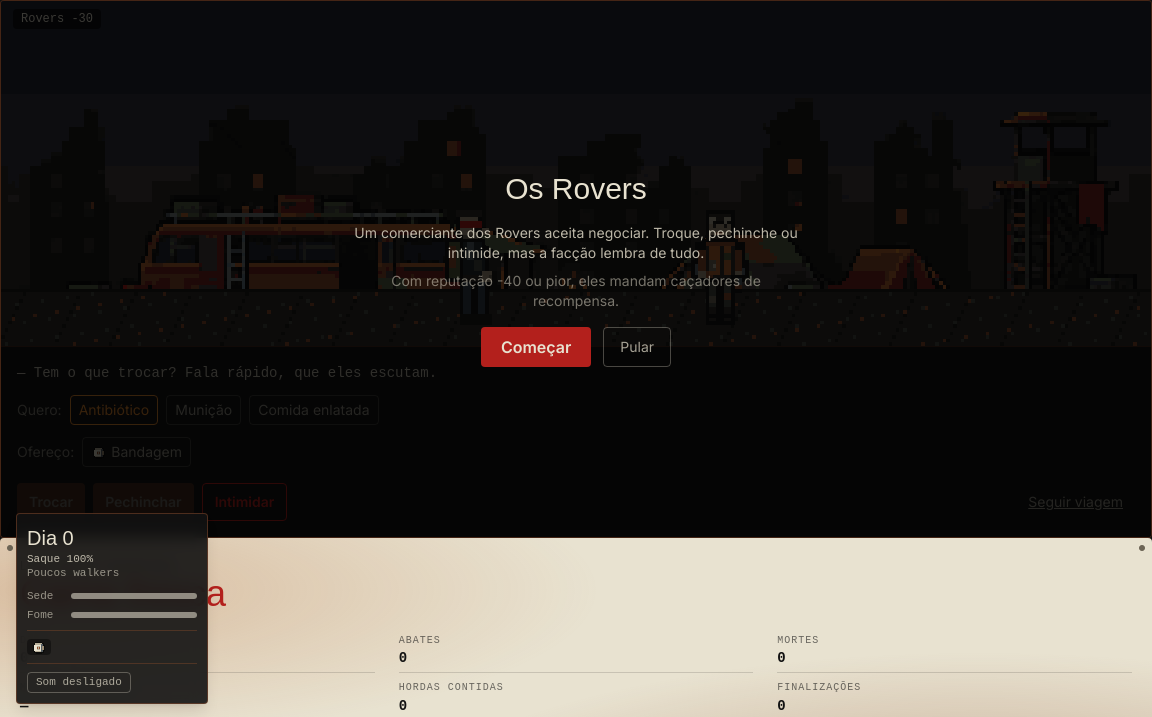
Scenario: TraderGame › the Haven pardon needs two supplies
Click the button "Começar" at (536, 347), box x1=481 y1=327 x2=591 y2=367
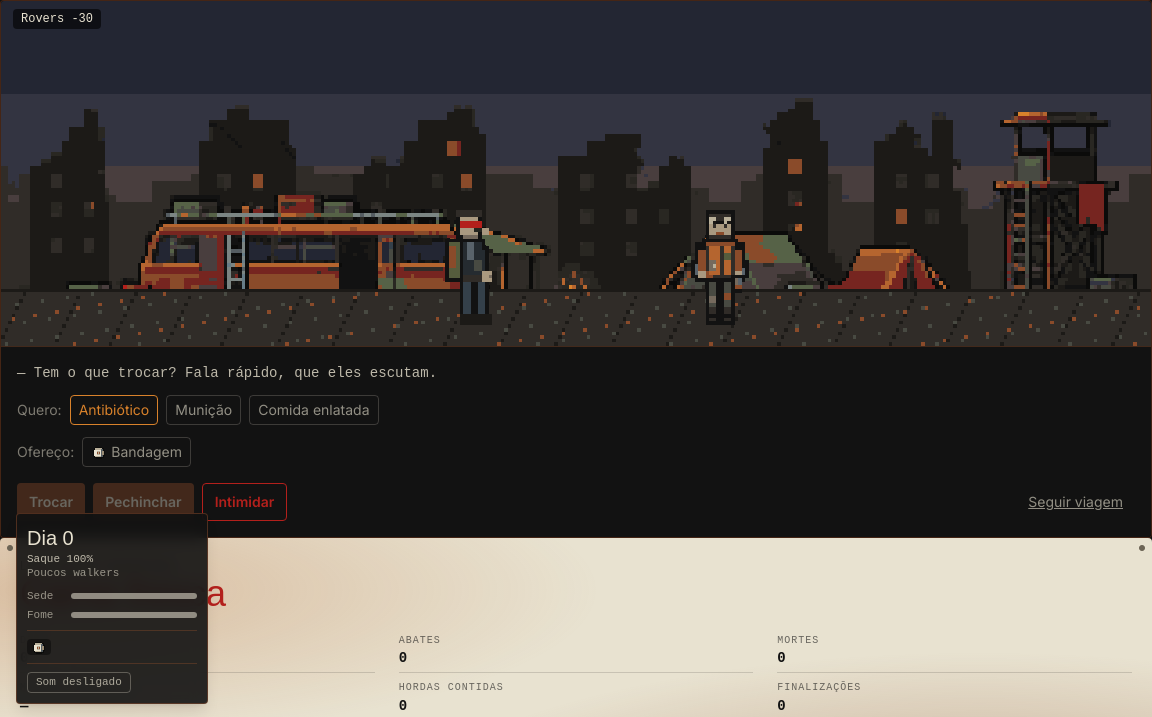
Click the button "Intimidar" at (244, 502), box x1=202 y1=483 x2=287 y2=521
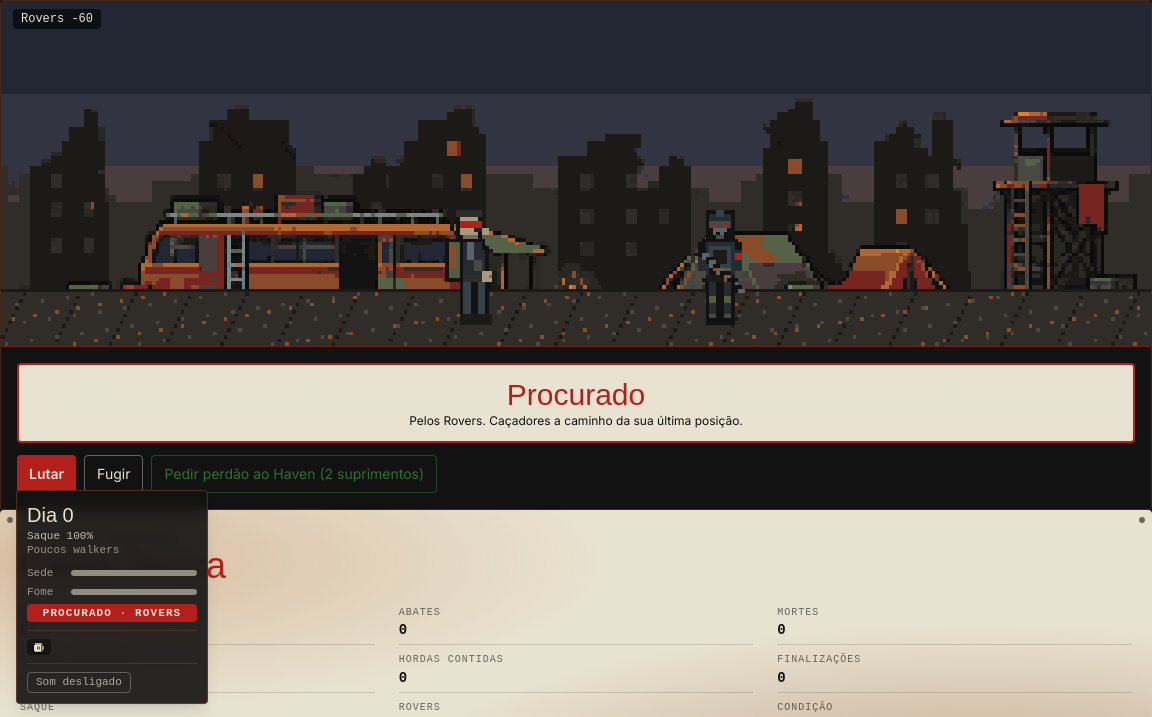
Expected: the button "Pedir perdão ao Haven (2 suprimentos)" is disabled, x1=151 y1=455 x2=437 y2=493
